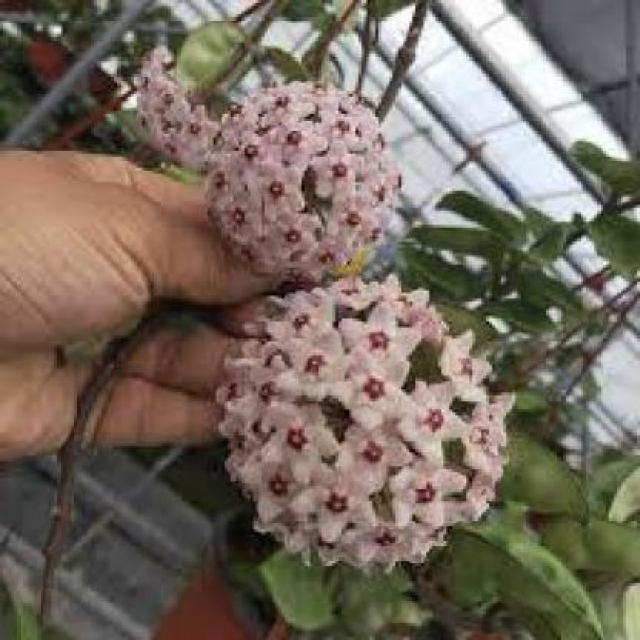flower: (218, 278, 519, 576), (182, 70, 404, 268)
